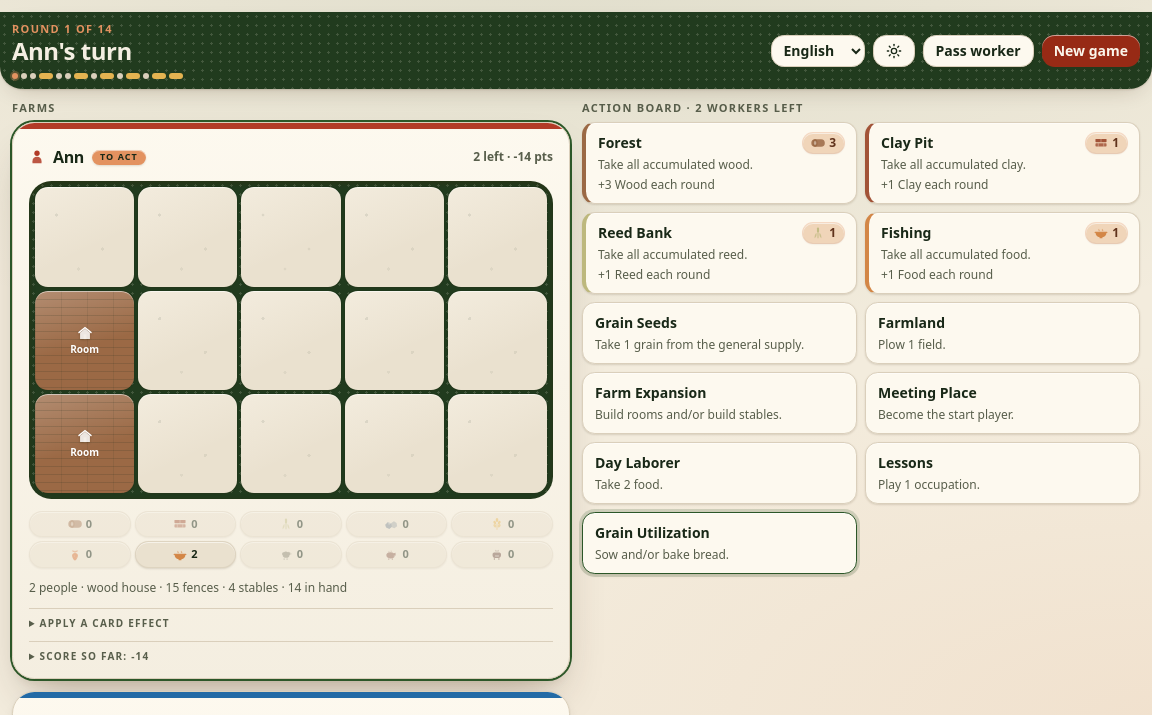
taking actions › plows the chosen space and advances the turn
Click the button "Farmland Plow 1 field." at x=912, y=323, box x1=865 y1=302 x2=1140 y2=364
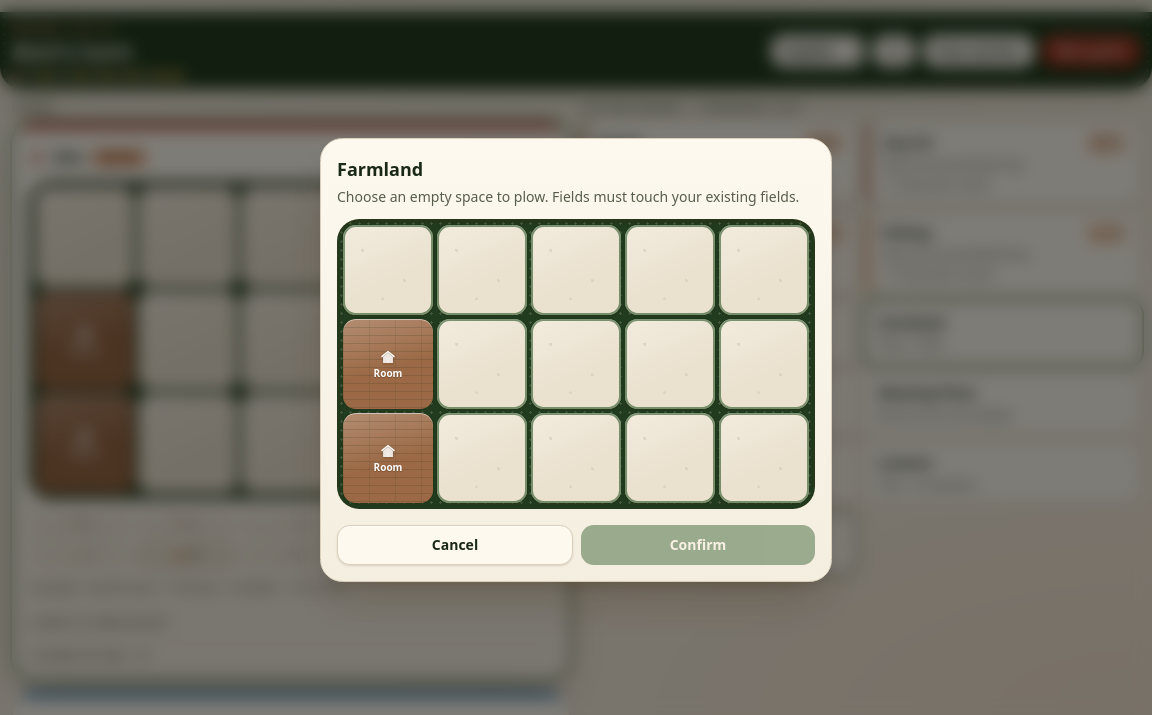
Click the button named "Space 1:" at x=388, y=270, box x1=343 y1=225 x2=433 y2=315
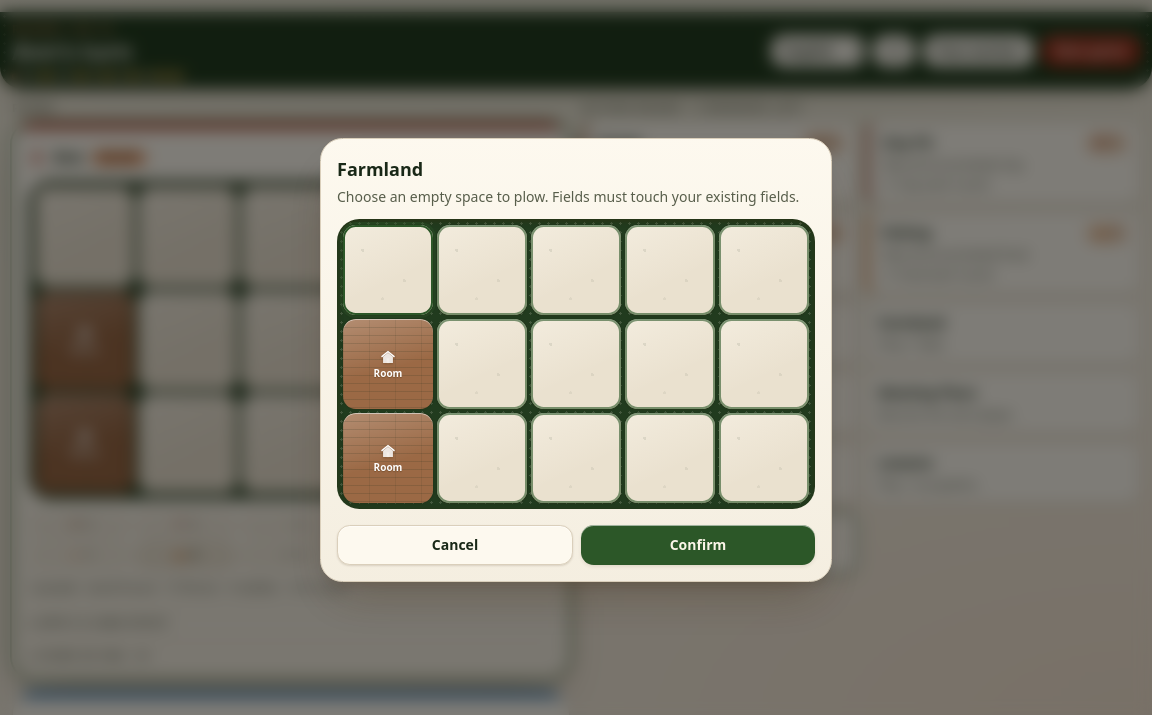
Click the button "Confirm" at x=698, y=545, box x1=581 y1=525 x2=815 y2=565
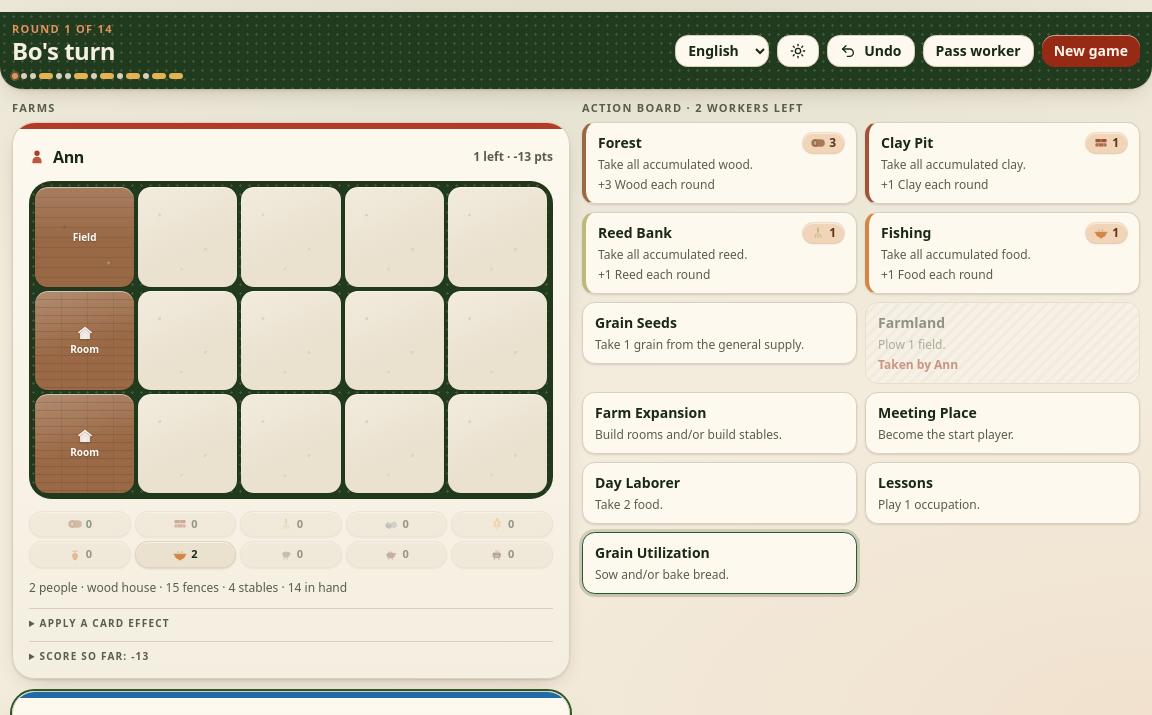
Expected: the heading "Bo's turn" is shown, x1=12 y1=34 x2=115 y2=67
